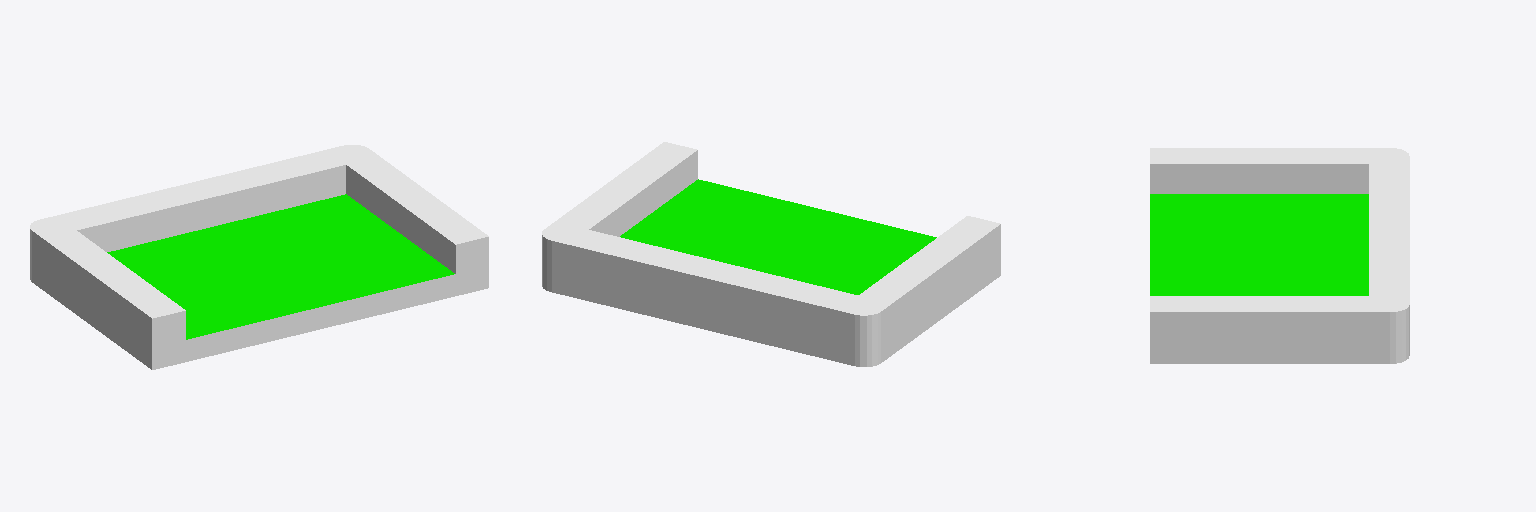
File: start_2x3.obj
3 renders of one model, left to right at view 1: azimuth 30°, elevation 25°; view 2: azimuth 150°, elevation 25°; view 3: azimuth 270°, elevation 25°, orthographic.
Visible parts, largest first — view 1: start3 group1; view 2: start3 group1; view 3: start3 group1.
Part boxes in pixels (bbox=[...]): start3 group1: bbox=[30, 145, 488, 369]; start3 group1: bbox=[542, 142, 1000, 366]; start3 group1: bbox=[1150, 148, 1409, 363].
Bounding box in the file's own units: 3 × 0.44 × 2.